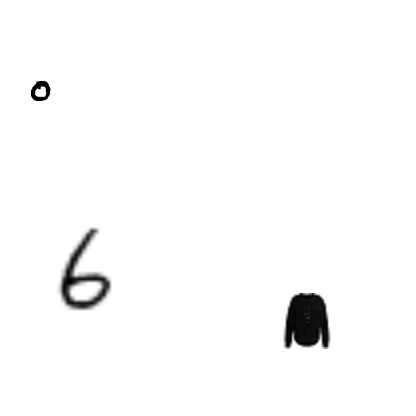0: (26, 76, 54, 104)
6: (26, 221, 138, 333)
Shirt: (278, 293, 334, 349)
